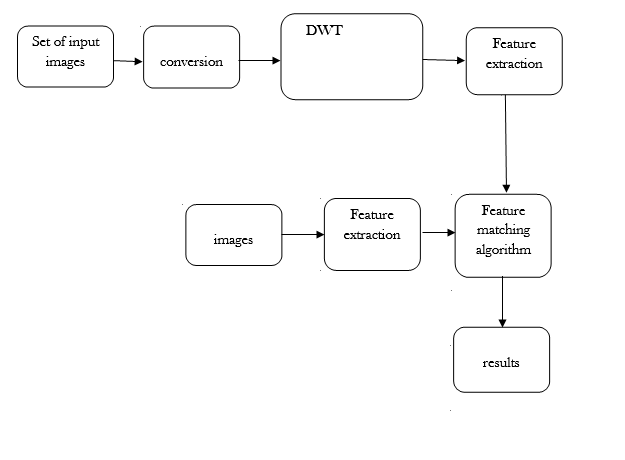arrow: (500, 93, 511, 192), (238, 52, 282, 68), (497, 276, 509, 327), (421, 54, 465, 67), (420, 225, 456, 239), (282, 230, 323, 239), (111, 55, 144, 66)
process: (277, 8, 426, 103), (451, 191, 556, 281), (320, 196, 424, 275), (463, 23, 566, 98), (451, 324, 554, 395), (140, 22, 243, 92), (181, 201, 286, 269), (13, 23, 117, 91)
text: (472, 202, 533, 259), (29, 33, 102, 71), (342, 206, 404, 242), (484, 35, 545, 71), (156, 55, 225, 68), (302, 20, 344, 39), (207, 231, 253, 248), (481, 357, 520, 368)
